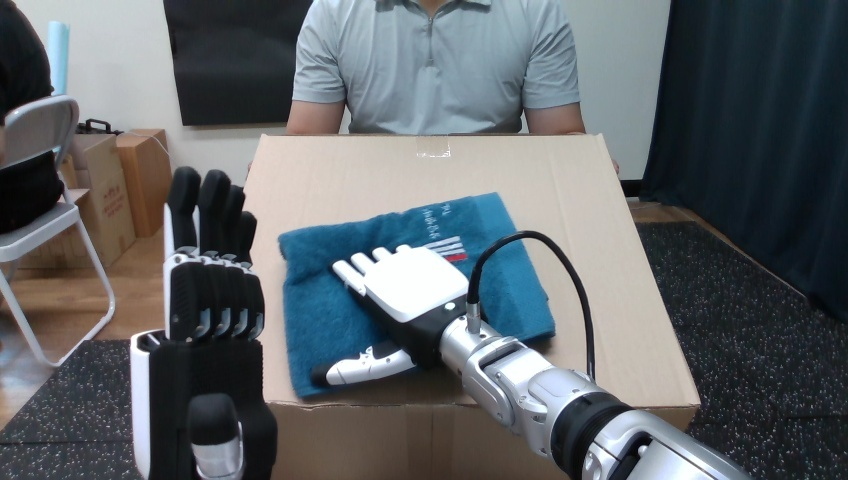left robot hand: (312, 231, 749, 479), (130, 167, 276, 478), (478, 237, 587, 373)
